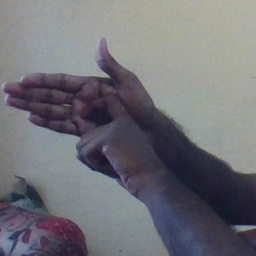R: (2, 35, 163, 179)
